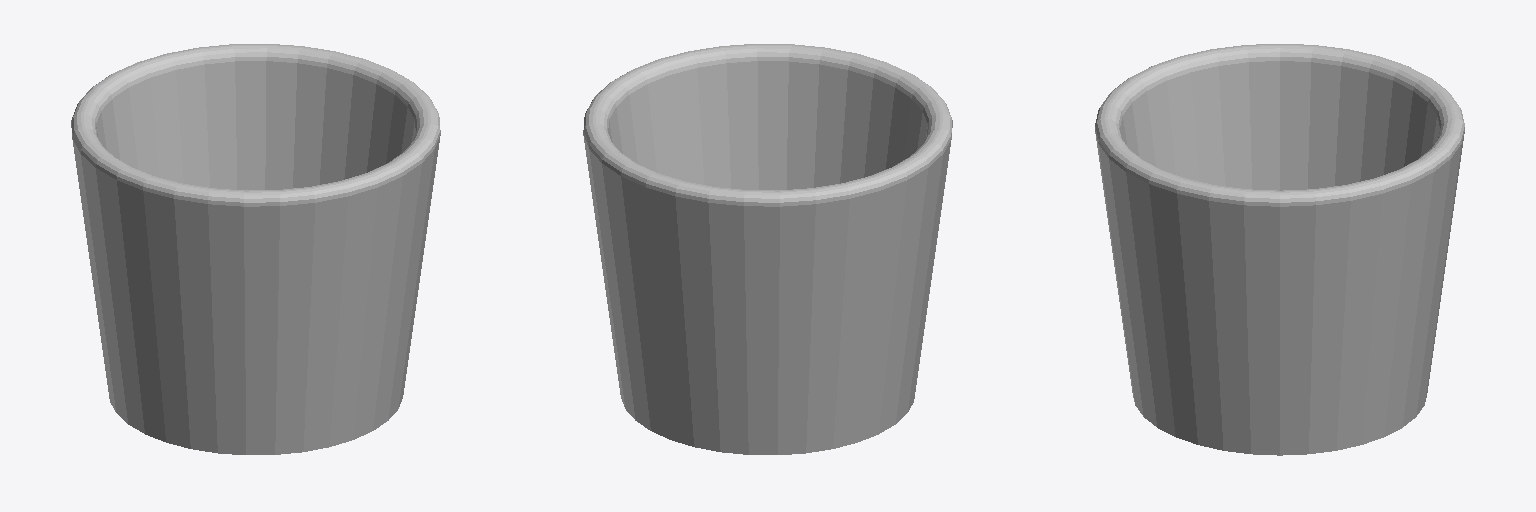
File: Cup.obj
3 renders of one model, left to right at view 1: azimuth 30°, elevation 25°; view 2: azimuth 150°, elevation 25°; view 3: azimuth 270°, elevation 25°, orthographic.
Visible parts, largest first — view 1: Cylinder; view 2: Cylinder; view 3: Cylinder.
Part boxes in pixels (left/top/right/bottom): Cylinder: left=71, top=44, right=440, bottom=454; Cylinder: left=583, top=44, right=952, bottom=454; Cylinder: left=1095, top=44, right=1464, bottom=455.
Size of the model in its own units: 0.1875 by 0.1533 by 0.1875.